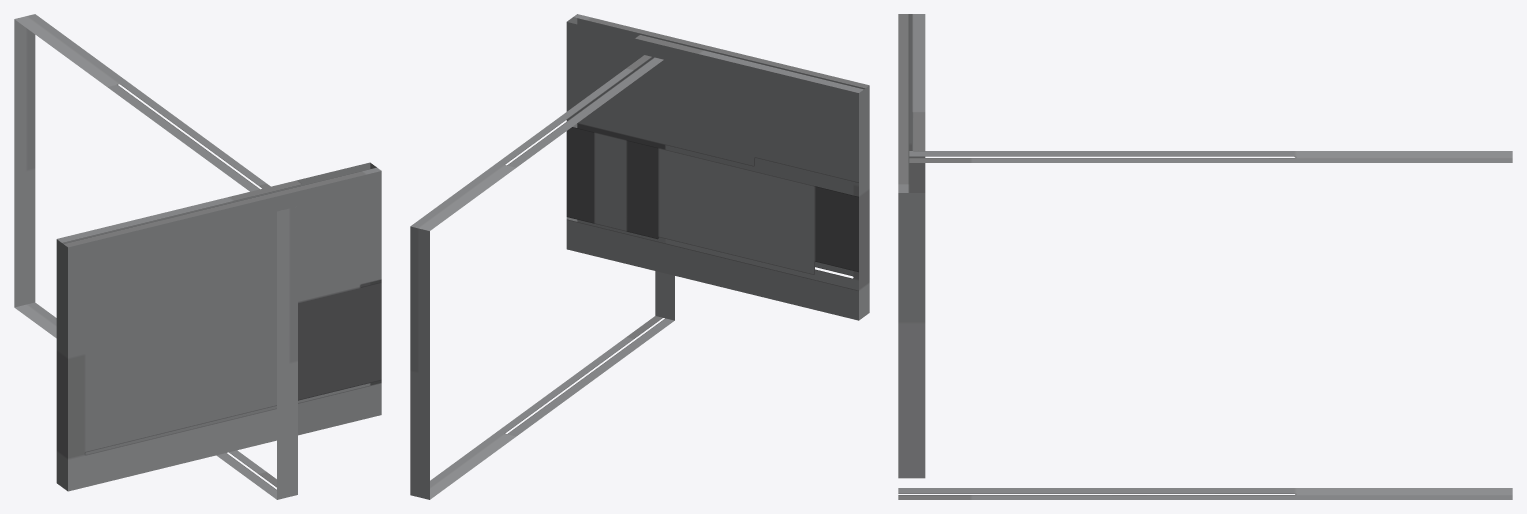
3 renders of one model, left to right at view 1: azimuth 30°, elevation 25°; view 2: azimuth 150°, elevation 25°; view 3: azimuth 270°, elevation 25°, orthographic. The views are drawn at different scales.
Size of the model in its own units: 1.13 by 1.05 by 1.64.
